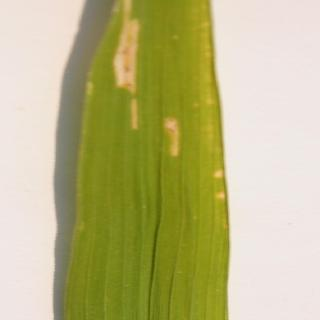Hawar-Daun: (186, 8, 240, 256), (111, 3, 142, 121), (156, 111, 183, 159)
